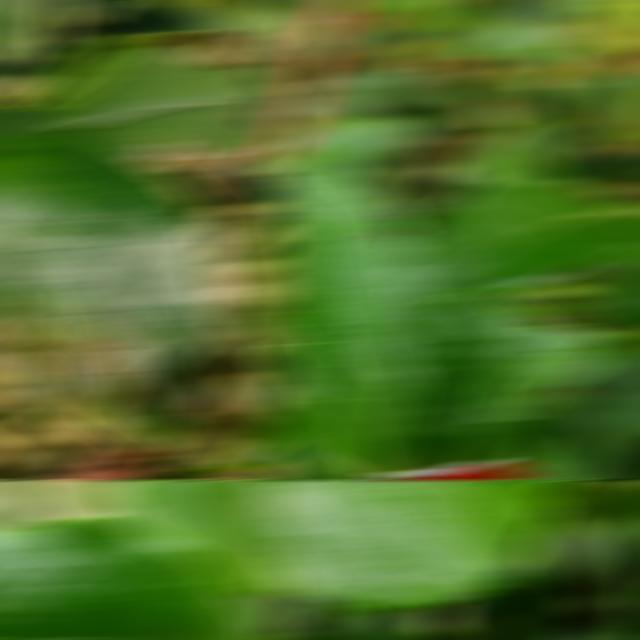Leaf: (0, 110, 239, 452), (264, 145, 429, 480), (383, 289, 617, 466), (264, 480, 563, 611), (0, 517, 276, 640), (402, 179, 640, 313), (28, 46, 285, 160), (4, 0, 223, 110), (105, 480, 278, 594), (567, 351, 640, 457), (24, 346, 114, 427), (456, 119, 559, 186), (286, 118, 411, 163), (452, 22, 589, 63), (534, 513, 613, 582), (486, 561, 555, 640), (574, 257, 640, 329), (264, 434, 355, 480), (530, 434, 609, 480), (0, 0, 51, 58), (507, 0, 587, 21)
